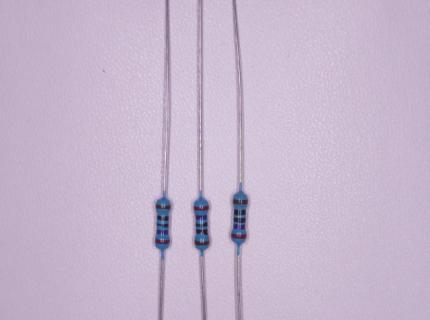Black band: (233, 217, 246, 223), (233, 209, 245, 215), (196, 229, 207, 235), (157, 215, 168, 221), (196, 222, 208, 227), (157, 223, 168, 228)
Brown band: (155, 204, 170, 209), (194, 240, 209, 245), (233, 199, 248, 204)
Red band: (231, 233, 246, 239), (155, 239, 169, 244), (194, 205, 208, 210)
Violet band: (156, 228, 168, 234), (234, 223, 246, 229), (195, 215, 207, 220)
